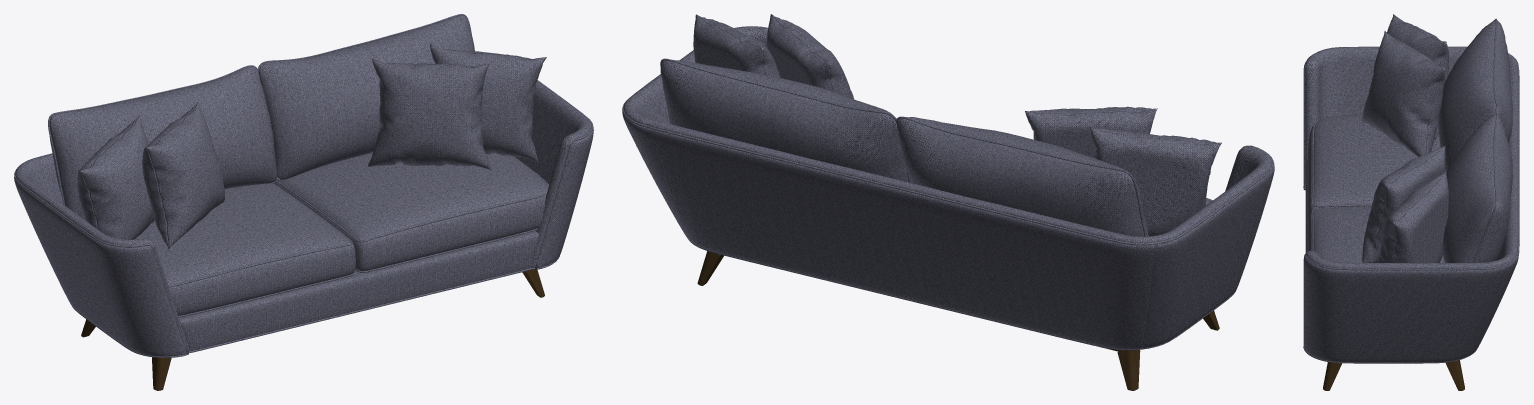
File: LongSofa-transformed.glb
3 renders of one model, left to right at view 1: azimuth 30°, elevation 25°; view 2: azimuth 150°, elevation 25°; view 3: azimuth 270°, elevation 25°, orthographic. The views are drawn at different scales.
Parts seen in each view (by area): view 1: Seat part, Leg part; view 2: Seat part, Leg part; view 3: Seat part, Leg part.
Boxes of the visible parts, left/top/right/bottom form: Seat part: left=14, top=14, right=593, bottom=357; Leg part: left=81, top=269, right=544, bottom=390; Seat part: left=622, top=14, right=1274, bottom=350; Leg part: left=697, top=251, right=1219, bottom=390; Seat part: left=1303, top=14, right=1519, bottom=363; Leg part: left=1323, top=360, right=1464, bottom=390.
Bounding box in the file's own units: 2.29 × 0.952 × 0.9424.
Materials: 3 (2 with a texture image).
